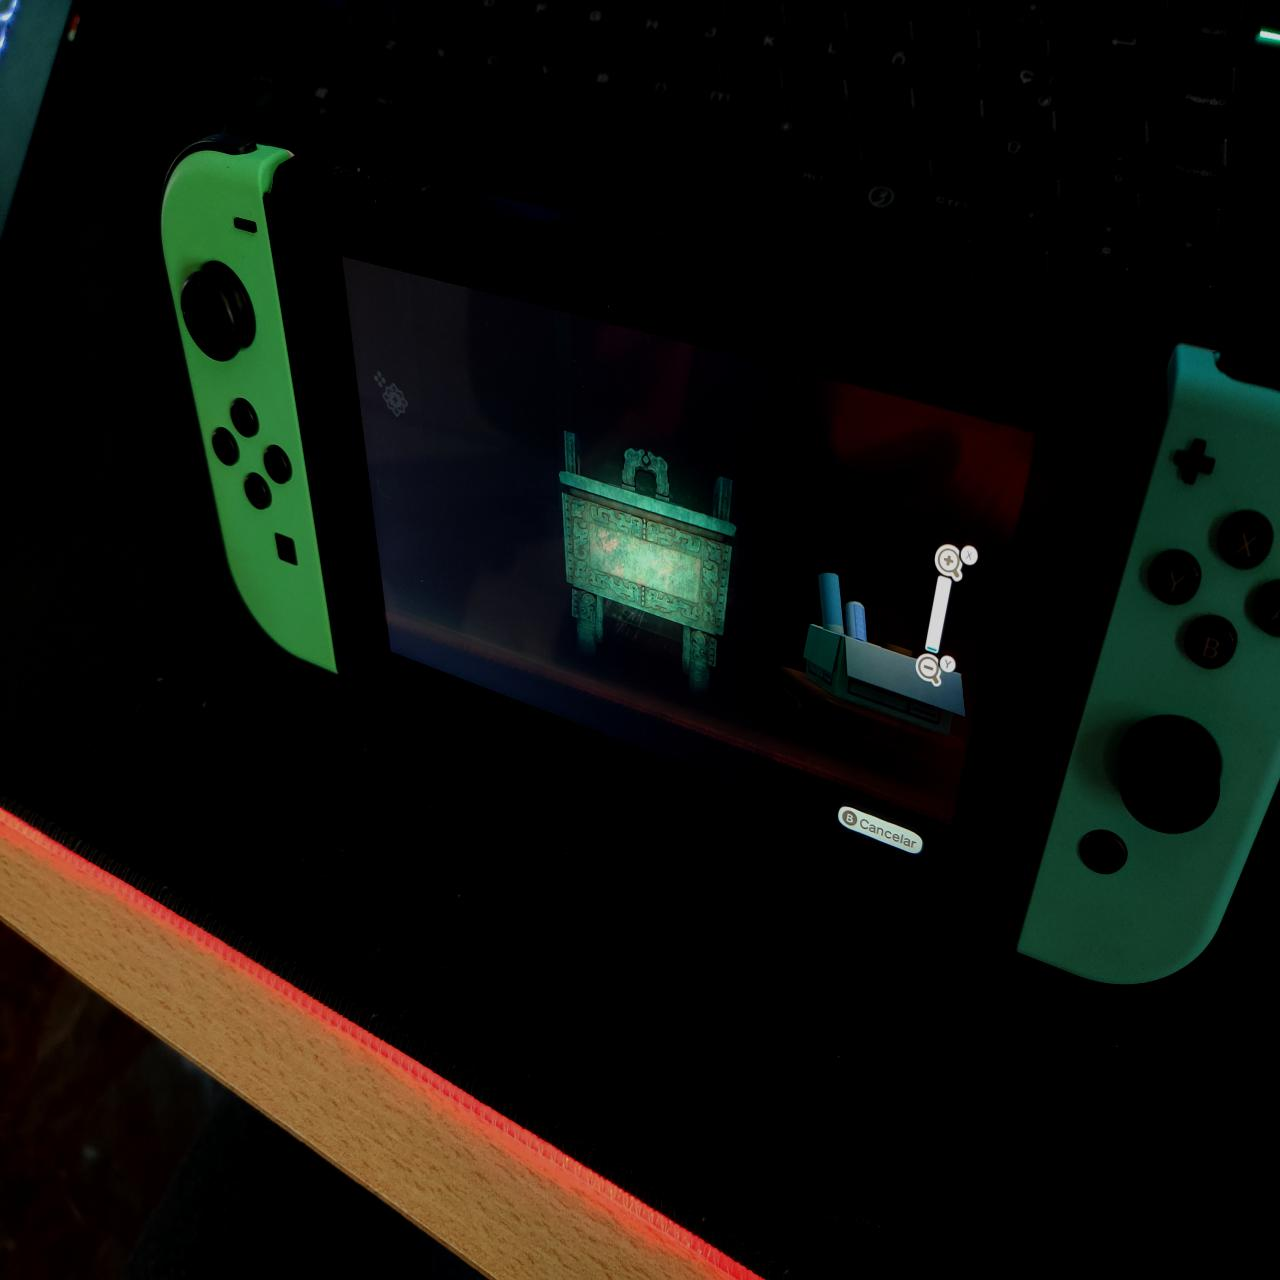HoumuwuDingFake: (557, 423, 742, 708)
